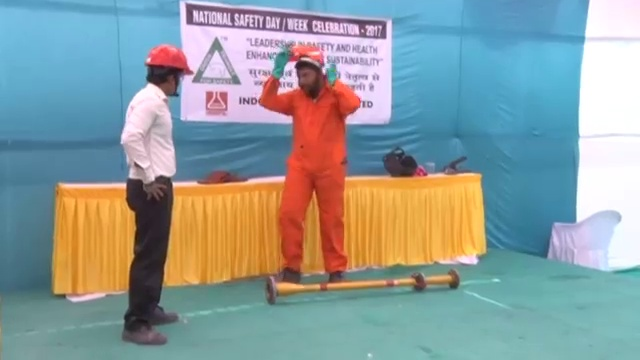helmet: (145, 44, 195, 76), (292, 43, 326, 68)
helmet_on: (142, 44, 196, 99), (288, 42, 326, 97)
person: (260, 40, 361, 281), (120, 42, 195, 345)
